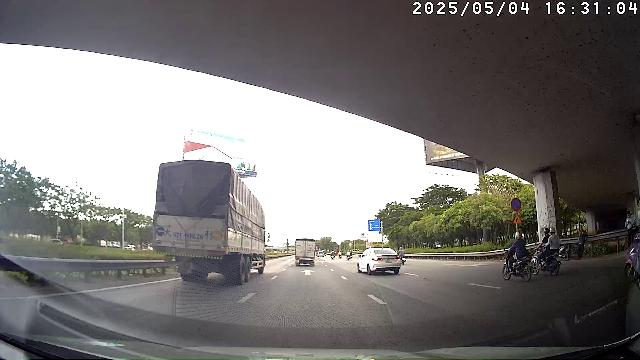130-cam-dung-va-do-xe: (511, 198, 522, 211)
